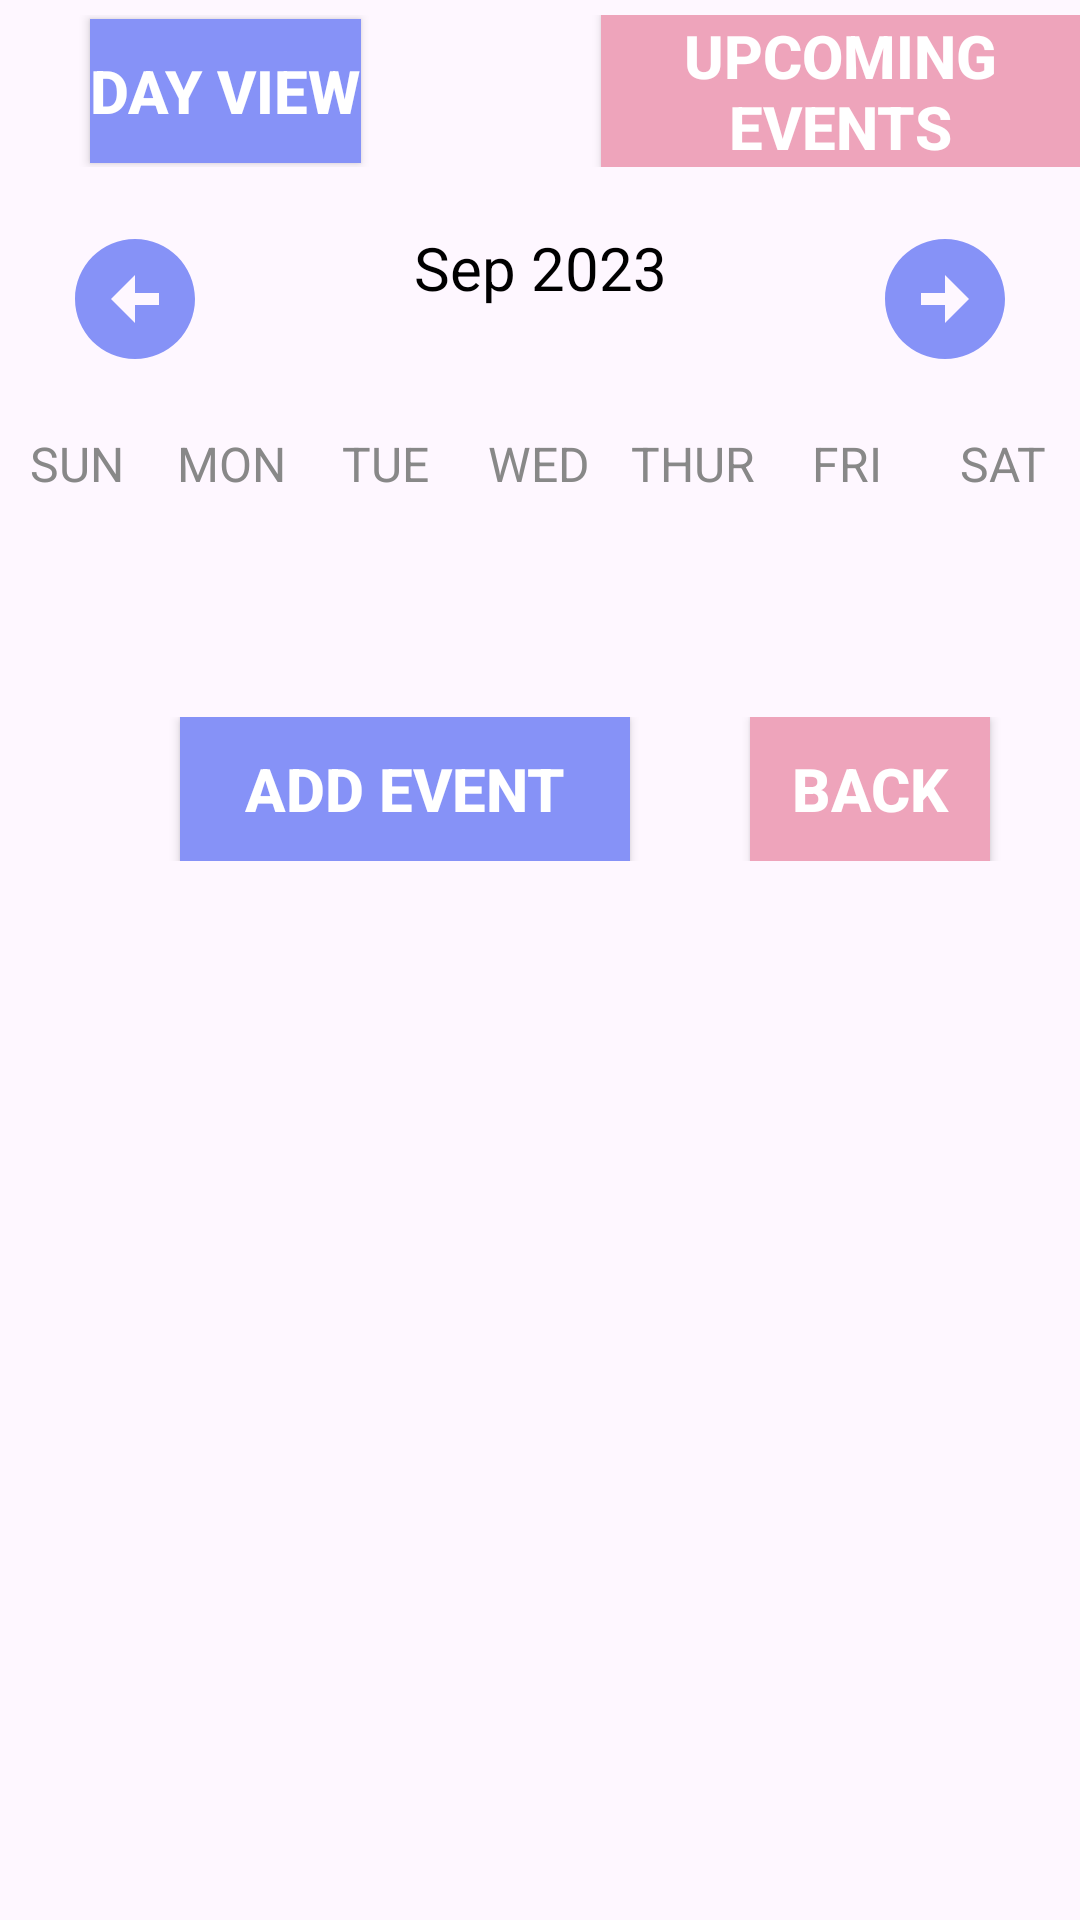

Icon bounding boxes for this 1080*1920 phone screenshot, format (x1, y1, x2, y2):
arrow circle left: (75, 239, 195, 359)
arrow circle right: (885, 239, 1005, 359)
